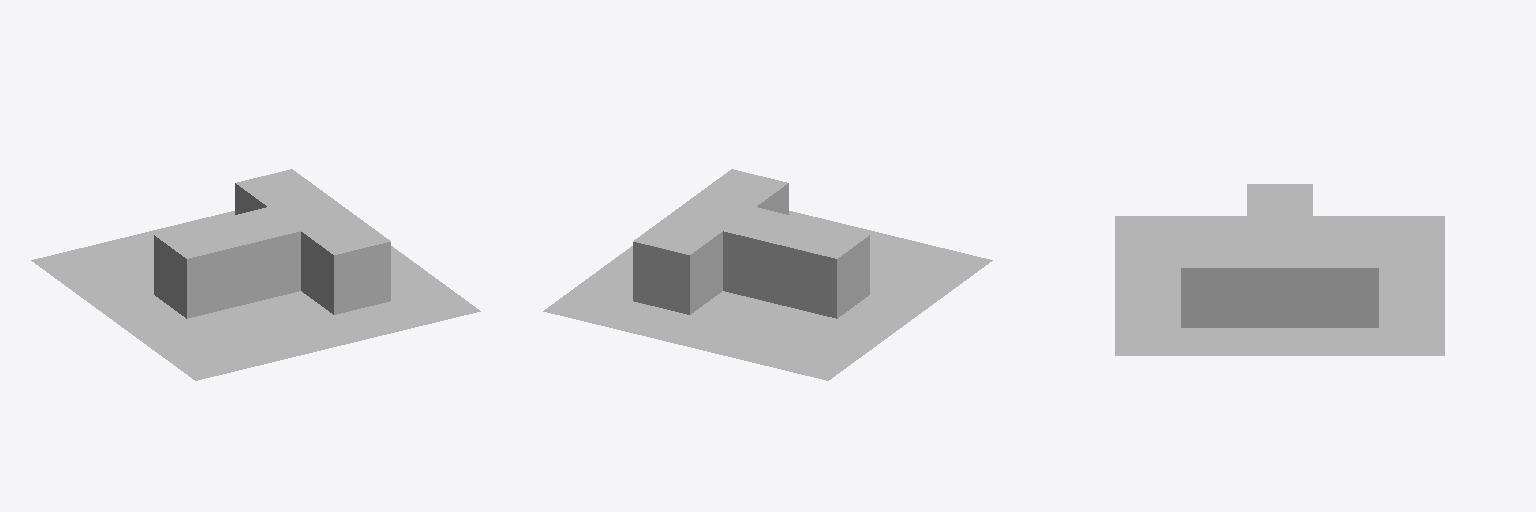
Rendered from obstacle_vistestcase.obj.
3 renders of one model, left to right at view 1: azimuth 30°, elevation 25°; view 2: azimuth 150°, elevation 25°; view 3: azimuth 270°, elevation 25°, orthographic.
Visible parts, largest first — view 1: Floor_Plane_VisibilityTestCases.081, Obstacles_VisibilityTestCases.143; view 2: Floor_Plane_VisibilityTestCases.081, Obstacles_VisibilityTestCases.143; view 3: Floor_Plane_VisibilityTestCases.081, Obstacles_VisibilityTestCases.143.
Part boxes in pixels (x1,y1,x2,y2): Floor_Plane_VisibilityTestCases.081: (31,211,480,380); Obstacles_VisibilityTestCases.143: (154,169,390,318); Floor_Plane_VisibilityTestCases.081: (543,211,992,380); Obstacles_VisibilityTestCases.143: (633,169,869,318); Floor_Plane_VisibilityTestCases.081: (1115,216,1444,355); Obstacles_VisibilityTestCases.143: (1181,184,1378,327).
Size of the model in its own units: 50 by 10 by 50.